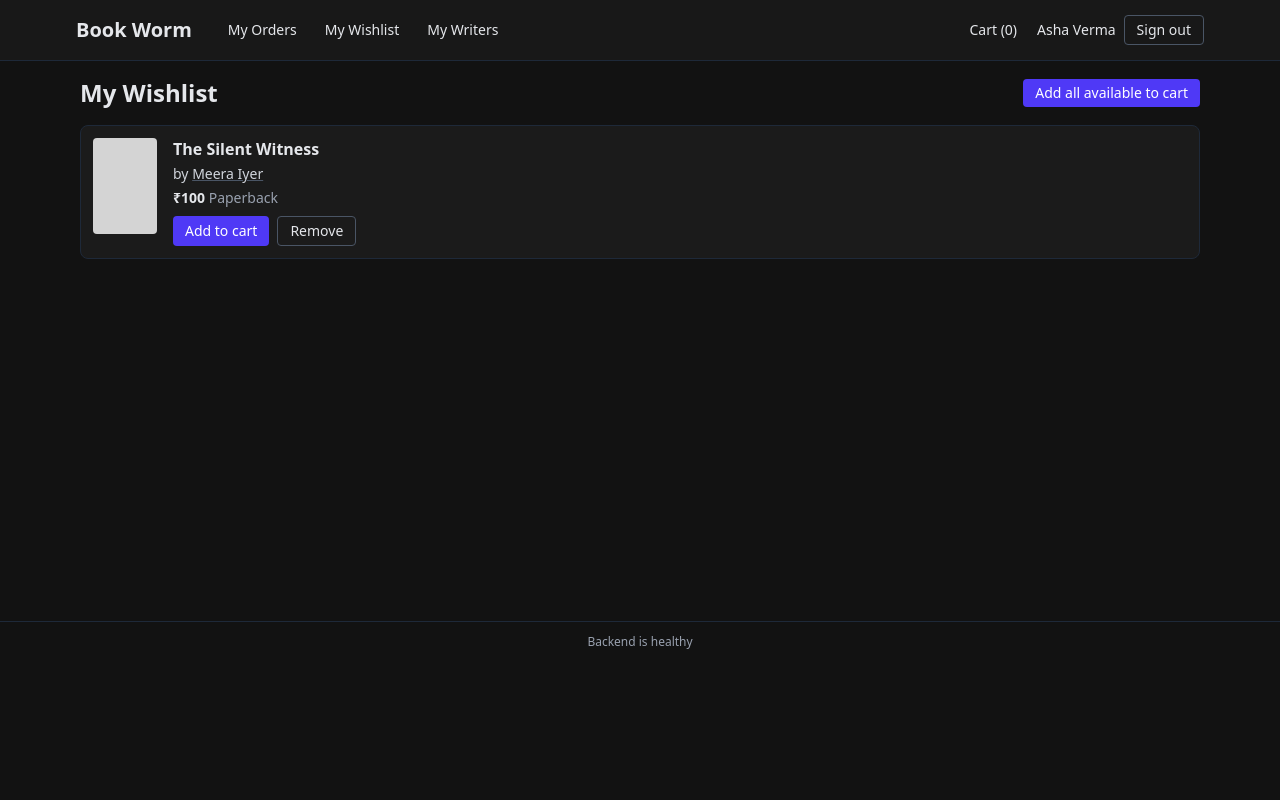
Test: My Wishlist page › adds one book to the cart and keeps it on the wishlist
The image size is (1280, 800).
Click the button with aria-label "Add to cart: The Silent Witness": (221,231) [173, 216, 269, 246]
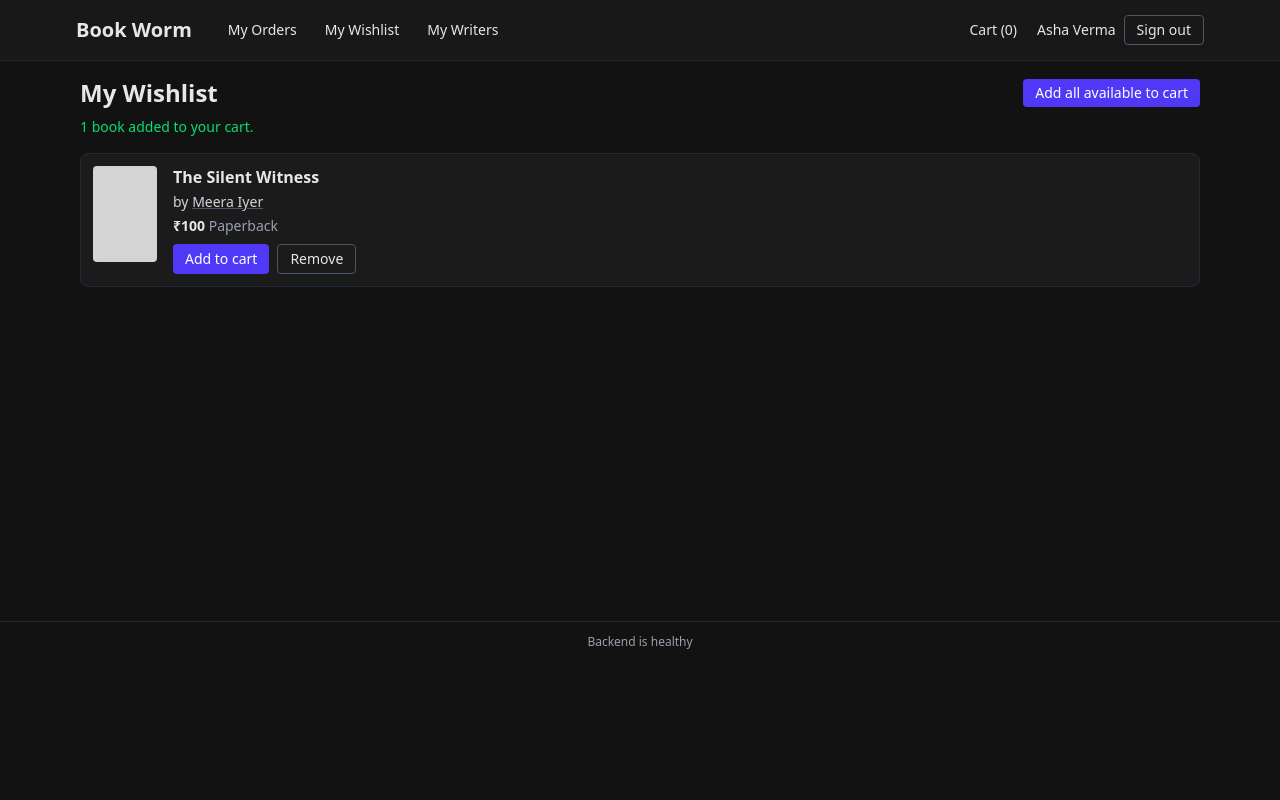
Expected: the heading "The Silent Witness" is shown, [173, 166, 319, 188]
Now the text "1 book added to your cart." is shown, box [80, 117, 254, 136]
